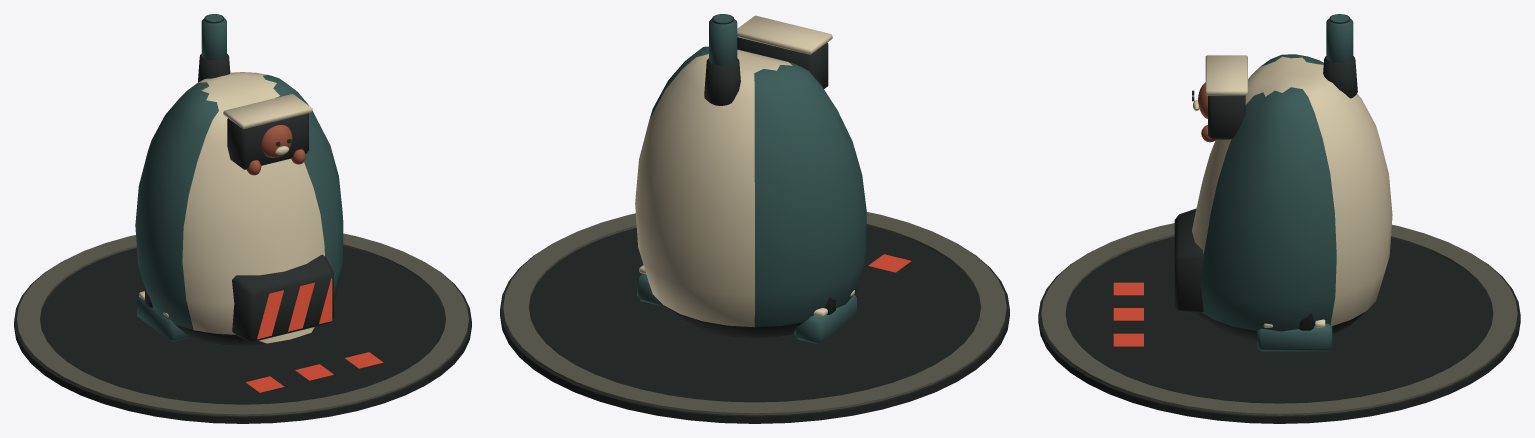
File: enemy_burrower.glb
3 views of the same model, side by side, from view 1: azimuth 30°, elevation 25°; view 2: azimuth 150°, elevation 25°; view 3: azimuth 270°, elevation 25° (orthographic). The views are drawn at different scales.
Parts seen in each view (by area): view 1: BurrowMarker, BurrowHull; view 2: BurrowMarker, BurrowHull; view 3: BurrowMarker, BurrowHull.
Part boxes in pixels (x1,y1,x2,y2): BurrowMarker: [14, 233, 471, 423]; BurrowHull: [135, 14, 343, 345]; BurrowMarker: [500, 212, 1009, 423]; BurrowHull: [635, 14, 866, 343]; BurrowMarker: [1038, 223, 1520, 423]; BurrowHull: [1174, 14, 1392, 351].
Size of the model in its own units: 3.2 by 2.23 by 3.2.
